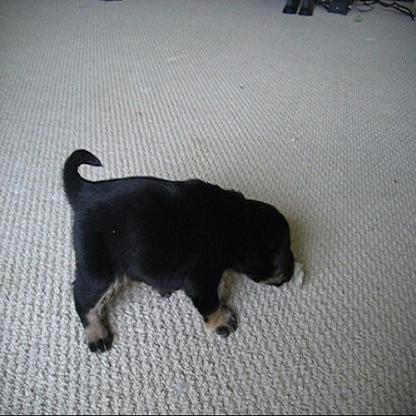dog: (61, 146, 296, 353)
